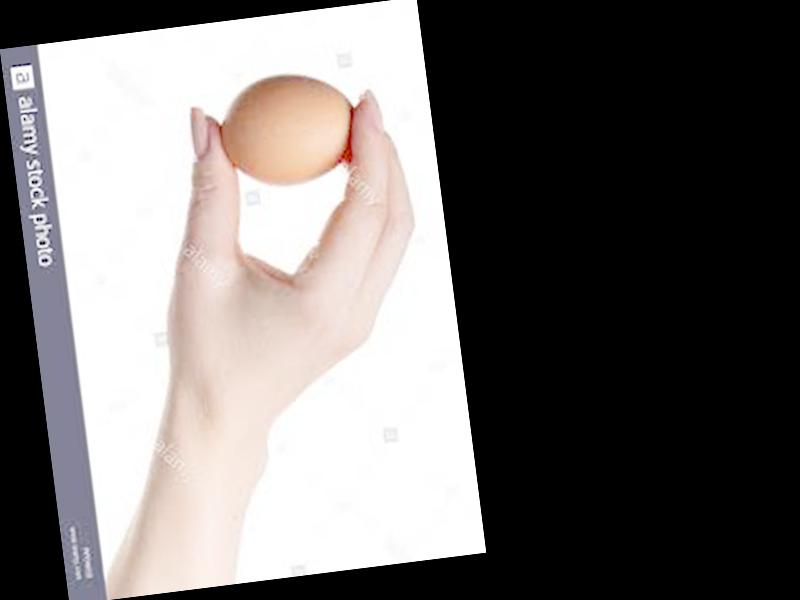Eggs: (215, 65, 362, 197)
